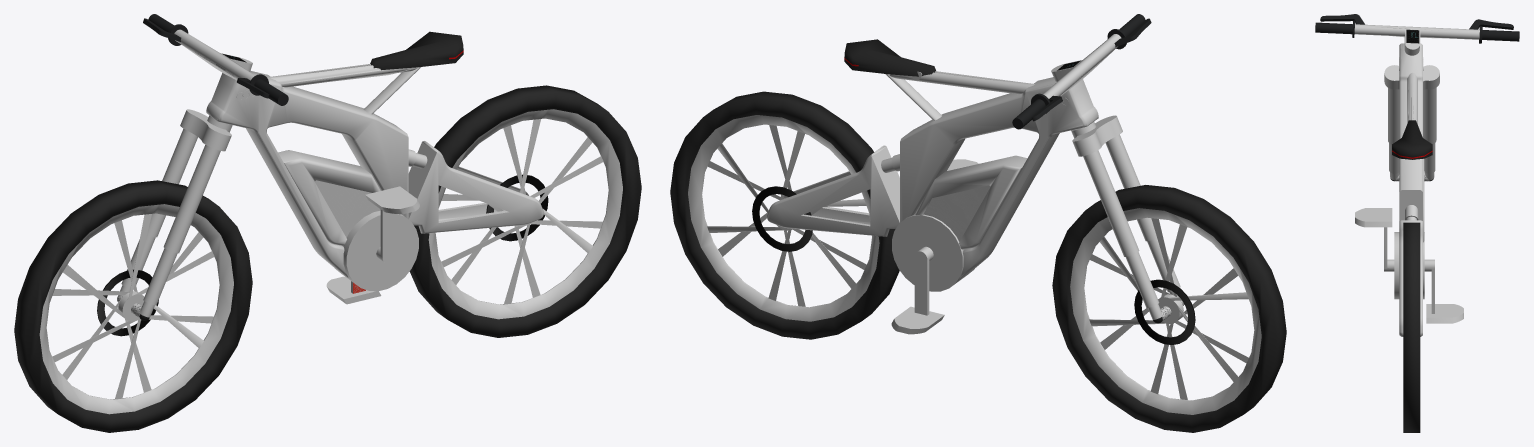
The model's file is E-bike.dae.
3 views of the same model, side by side, from view 1: azimuth 30°, elevation 25°; view 2: azimuth 150°, elevation 25°; view 3: azimuth 270°, elevation 25° (orthographic). The views are drawn at different scales.
Visible parts, largest first — view 1: Component_2 (×4), Component_4 (×2), Component_10, Component_16 (×4), Component_15 (×2), Component_7 (×3), Component_13, Component_12 (×2), Component_5 (×2), Component_3, Component_9; view 2: Component_2 (×4), Component_4 (×2), Component_10, Component_16 (×3), Component_15 (×2), Component_7 (×3), Component_5 (×2), Component_12 (×2), Component_13, Component_3, Component_9; view 3: Component_2, Component_10, Component_3 (×5), Component_16 (×5), Component_7 (×4), Component_13, Component_9, Component_12.
Boxes of the visible parts, x1,y1,x2,y2 form: Component_2 (×4): (14, 85, 641, 432); Component_4 (×2): (39, 109, 622, 414); Component_10: (206, 70, 543, 277); Component_16 (×4): (326, 186, 419, 304); Component_15 (×2): (278, 150, 380, 245); Component_7 (×3): (143, 128, 220, 305); Component_13: (370, 31, 463, 70); Component_12 (×2): (269, 64, 420, 114); Component_5 (×2): (97, 174, 548, 336); Component_3: (174, 29, 255, 80); Component_9: (180, 109, 232, 151); Component_2 (×4): (670, 91, 1286, 432); Component_4 (×2): (688, 115, 1261, 414); Component_10: (767, 77, 1098, 280); Component_16 (×3): (891, 214, 964, 334); Component_15 (×2): (915, 155, 1027, 249); Component_7 (×3): (1083, 134, 1159, 307); Component_5 (×2): (752, 186, 1195, 344); Component_12 (×2): (885, 71, 1034, 120); Component_13: (844, 39, 935, 76); Component_3: (1043, 34, 1121, 98); Component_9: (1071, 115, 1122, 156); Component_2: (1403, 222, 1420, 432); Component_10: (1399, 43, 1422, 336); Component_3 (×5): (1315, 14, 1519, 55); Component_16 (×5): (1355, 208, 1463, 323); Component_7 (×4): (1388, 87, 1436, 173); Component_13: (1392, 120, 1432, 159); Component_9: (1384, 65, 1439, 89); Component_12: (1407, 72, 1417, 124).
Size of the model in its own units: 66.06 by 23.65 by 36.38.
